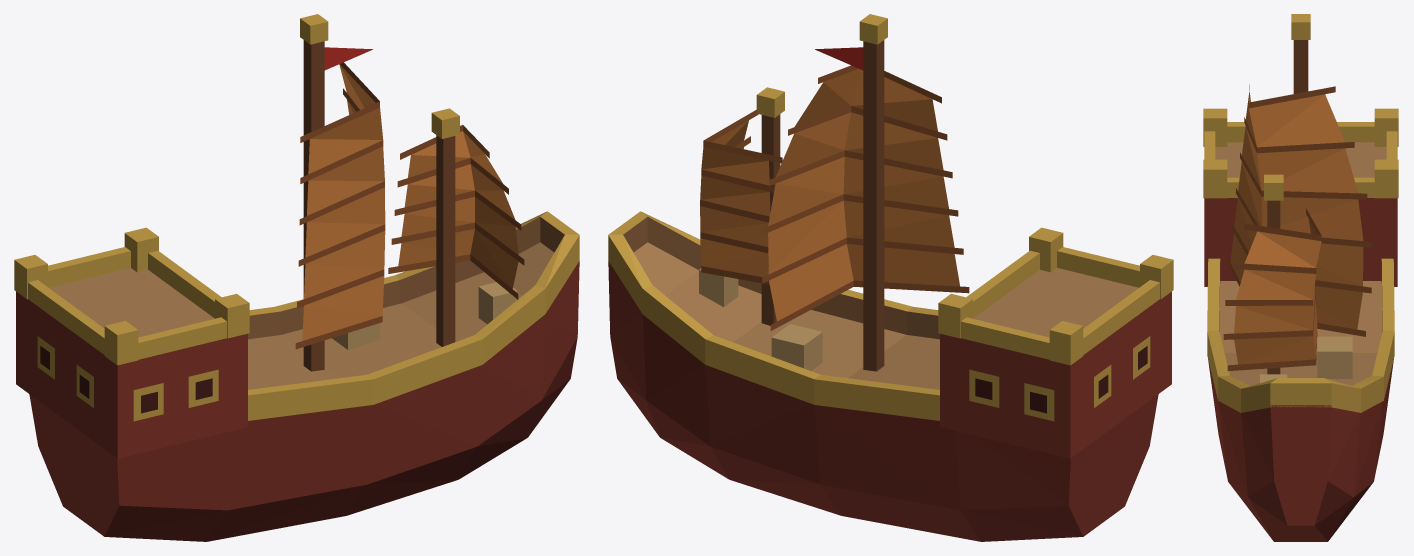
File: junk.glb
3 renders of one model, left to right at view 1: azimuth 30°, elevation 25°; view 2: azimuth 150°, elevation 25°; view 3: azimuth 270°, elevation 25°, orthographic. The views are drawn at different scales.
Visible parts, largest first — view 1: junk; view 2: junk; view 3: junk.
Boxes of the visible parts, x1=… form: junk: x1=14, y1=14, x2=579, y2=541; junk: x1=608, y1=14, x2=1173, y2=541; junk: x1=1203, y1=14, x2=1398, y2=541.
Bounding box in the file's own units: 1 × 0.9236 × 0.362.
